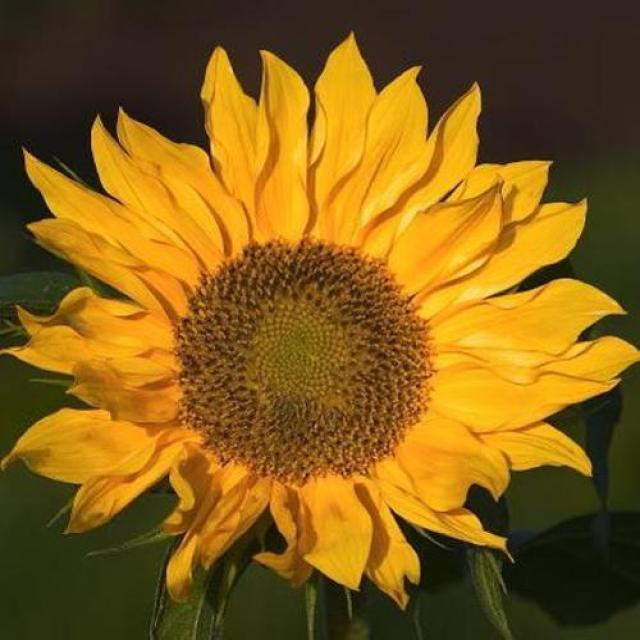sunflower: (8, 30, 630, 614)
